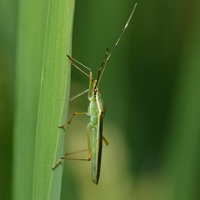insect: (58, 3, 136, 183)
